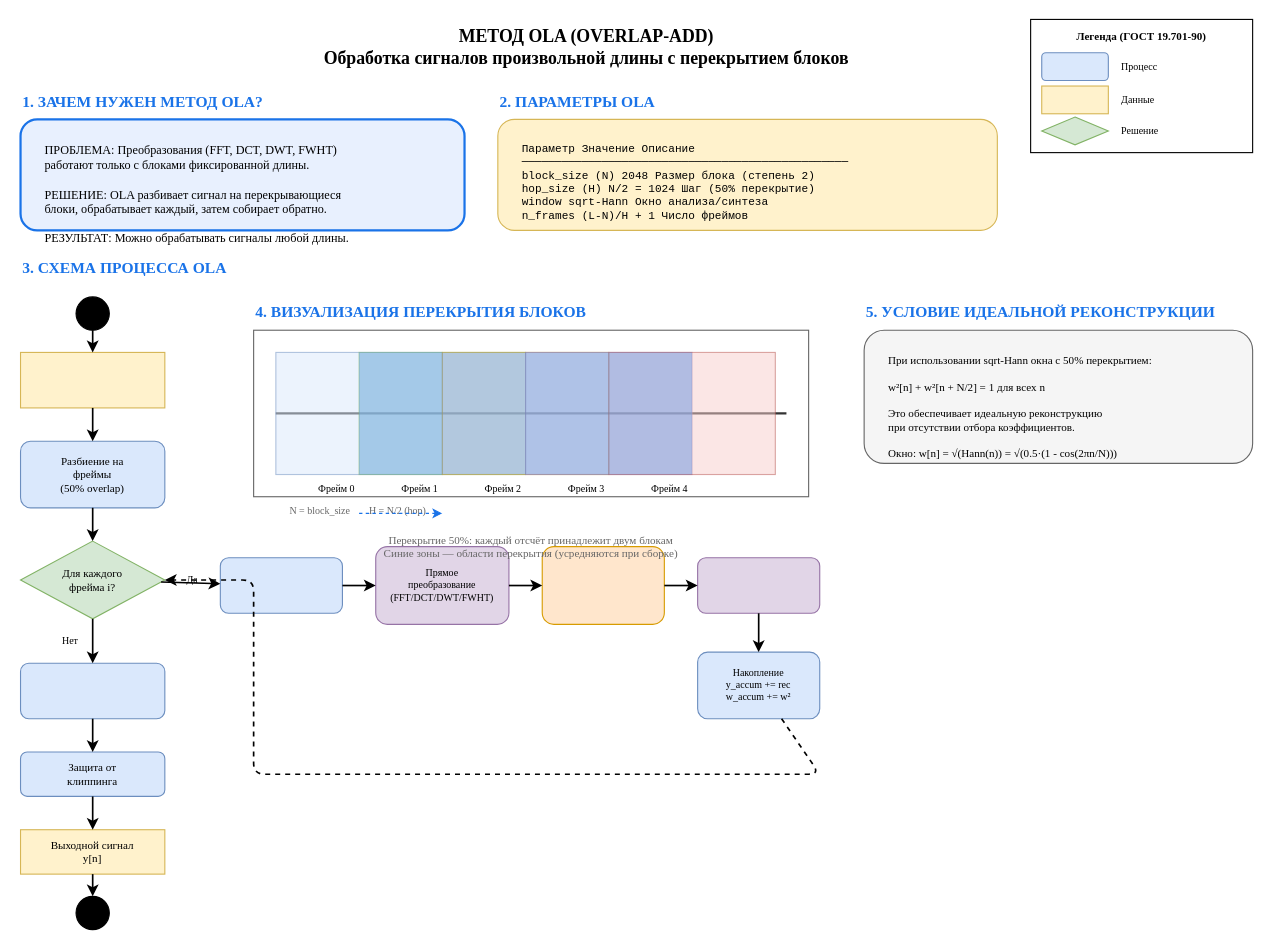
Image size: 1272x949. Some labels were removed from this diagram. The shapes that lost their labels are listed below. From the top down, each one's centre as x and y in pixels, then its label:
At (x=92, y=379): "Входной сигнал x[n], n=0...L-1".
At (x=280, y=585): "Применение окна sqrt-Hann".
At (x=602, y=585): "Отбор коэффициентов (опционально)".
At (x=758, y=585): "Обратное преобразование".
At (x=92, y=690): "Нормировка: y = y_accum / w_accum".
